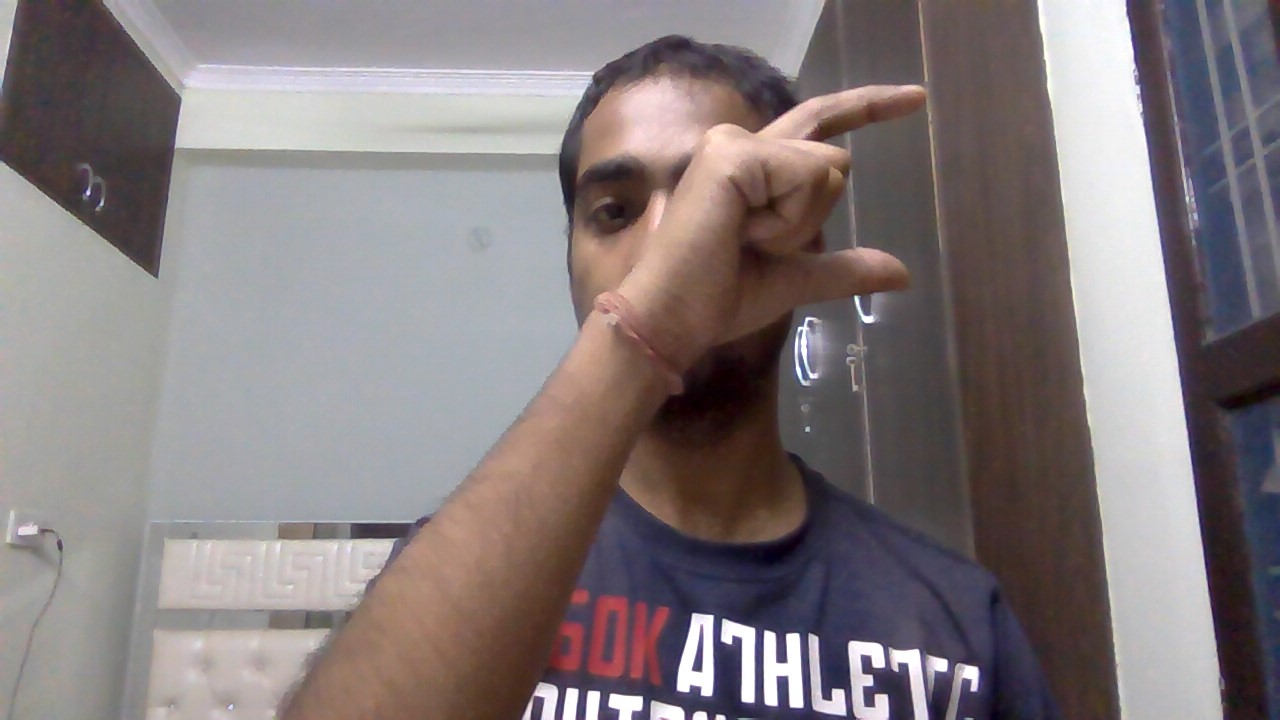Paste: (604, 78, 940, 367)
